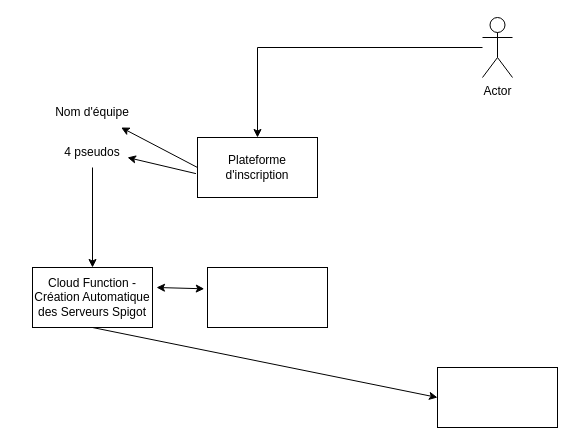
Image size: 575x445. Some labels were removed from this diagram. The centre of each missing label's shape, as x and y in pixels:
"BungeeCord" belongs at (497,397).
"Google Cloud Firestore - Formulaire d’Inscription" belongs at (267,297).
